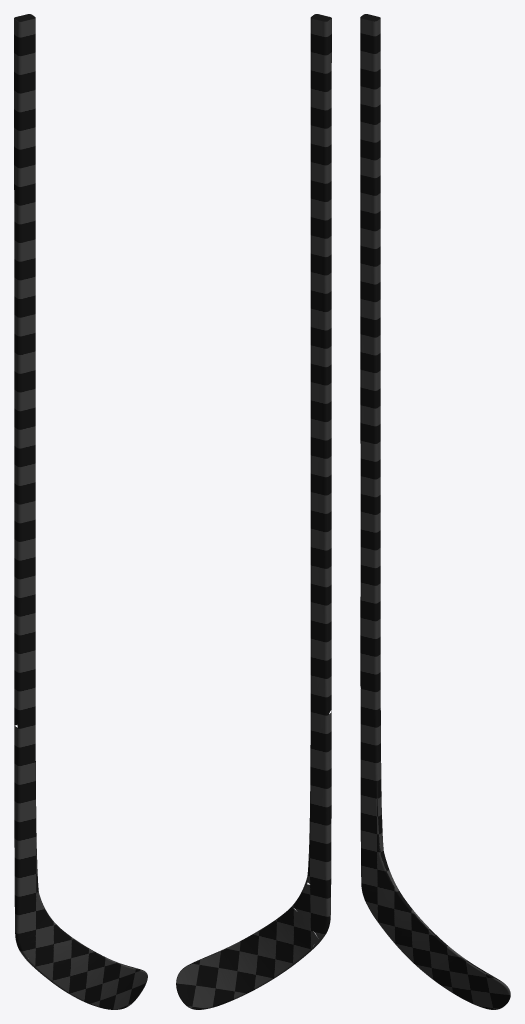
The model's file is P29-1-4-ST-LIE8_0.glb.
The picture shows the model from 3 angles, left to right: view 1: azimuth 30°, elevation 25°; view 2: azimuth 150°, elevation 25°; view 3: azimuth 330°, elevation 25°; orthographic projection. The views are drawn at different scales.
Visible parts, largest first — view 1: geometry_0; view 2: geometry_0; view 3: geometry_0.
Part boxes in pixels (x1,y1,x2,y2): geometry_0: (14, 14, 147, 1009); geometry_0: (176, 14, 331, 1009); geometry_0: (360, 14, 510, 1009).
Bounding box in the file's own units: 242 × 1650 × 54.72.
Materials: 1 (1 with a texture image).
